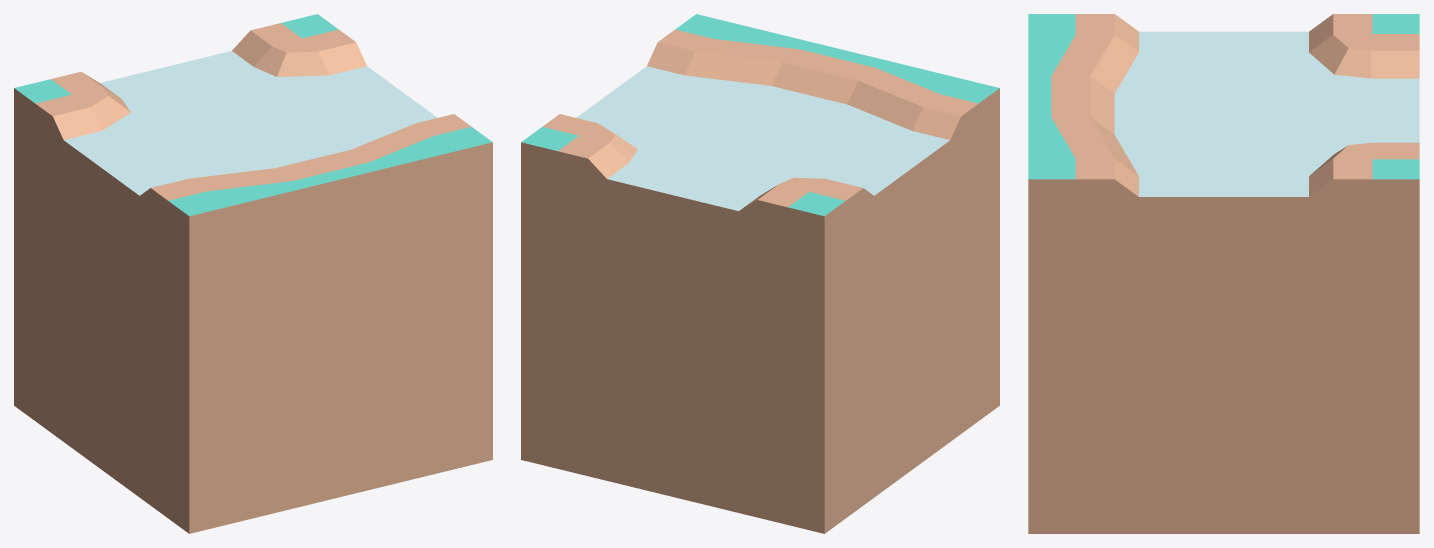
File: blockRiverSplit.fbx
The picture shows the model from 3 angles, left to right: view 1: azimuth 30°, elevation 25°; view 2: azimuth 150°, elevation 25°; view 3: azimuth 270°, elevation 25°; orthographic projection. The views are drawn at different scales.
Visible parts, largest first — view 1: blockRiverSplit; view 2: blockRiverSplit; view 3: blockRiverSplit.
Part boxes in pixels (bbox=[...]): blockRiverSplit: bbox=[14, 14, 492, 533]; blockRiverSplit: bbox=[521, 14, 999, 533]; blockRiverSplit: bbox=[1028, 14, 1419, 533].
Size of the model in its own units: 100 by 100 by 100.
